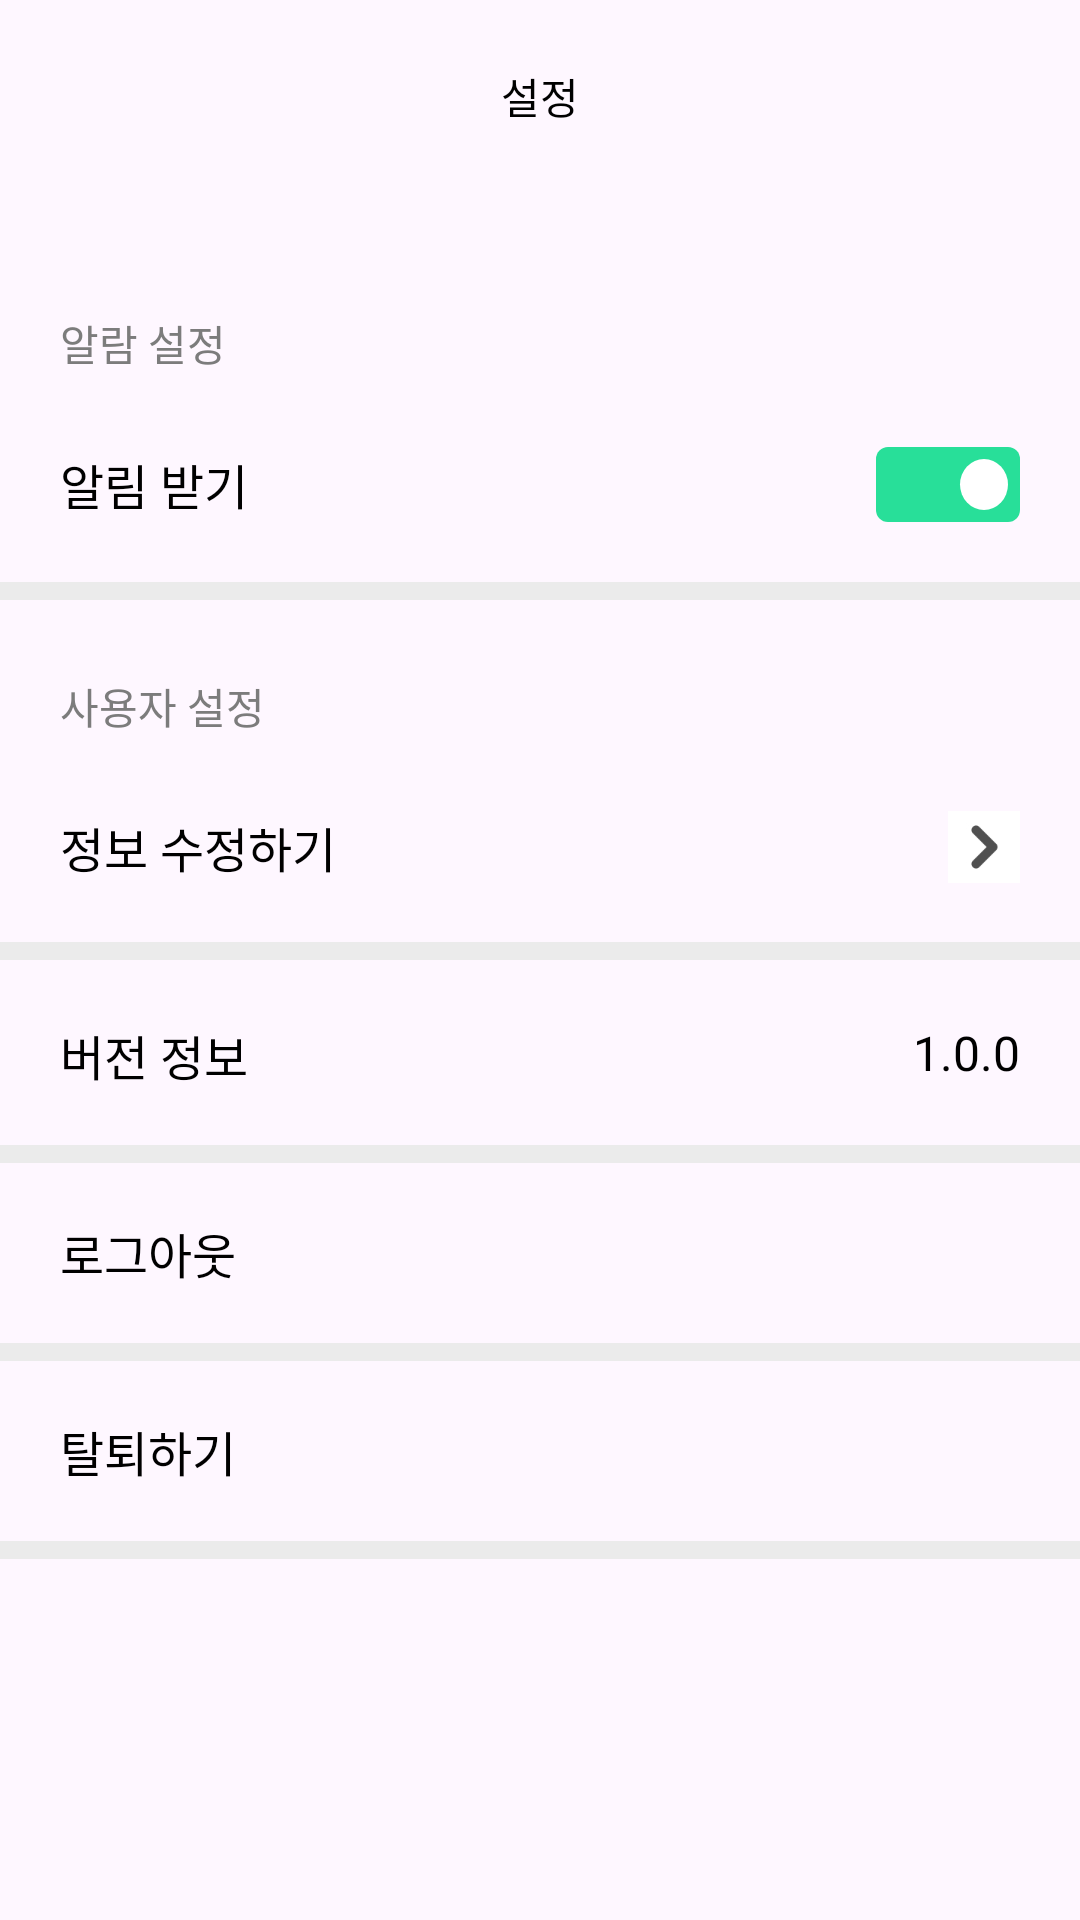

Screen size 1080px×1920px. Icon name, then its box in pixels as detection(x1, y1, x2, y2):
right arrow: detection(971, 825, 998, 869)
